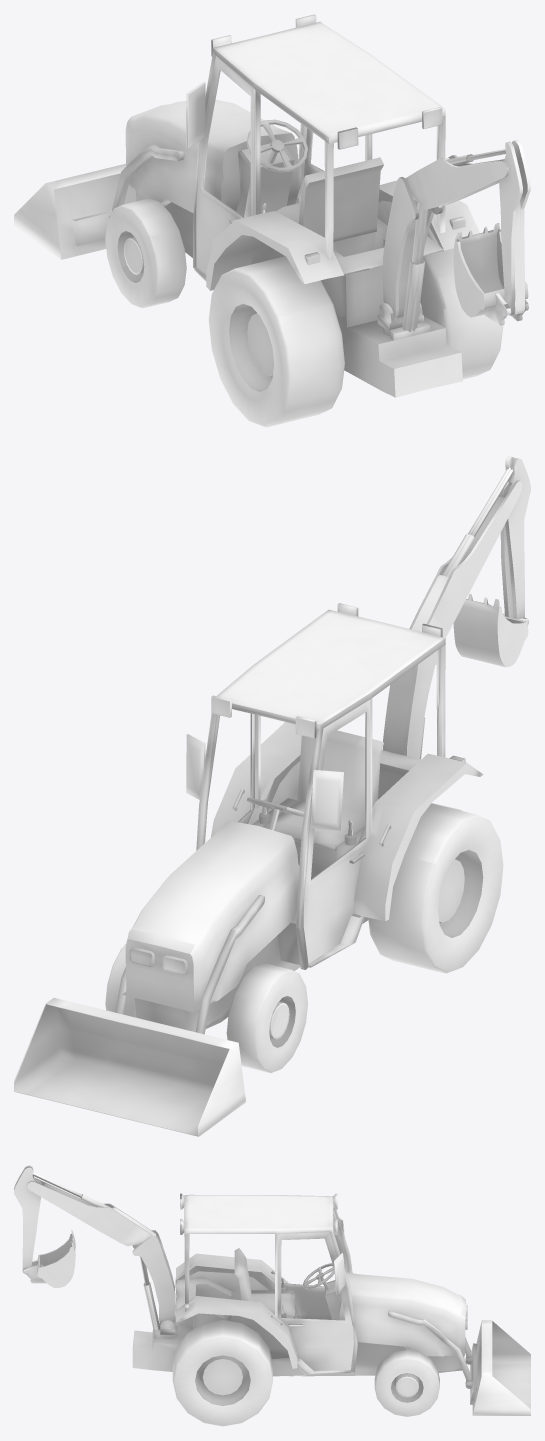
File: Tractor.glb
3 views of the same model, one above another, from view 1: azimuth 30°, elevation 25°; view 2: azimuth 150°, elevation 25°; view 3: azimuth 270°, elevation 25° (orthographic). The views are drawn at different scales.
Parts seen in each view (by area): view 1: Tractor; view 2: Tractor; view 3: Tractor.
Boxes of the visible parts, left/top/right/bottom form: Tractor: left=14, top=14, right=530, bottom=427; Tractor: left=14, top=456, right=530, bottom=1136; Tractor: left=14, top=1165, right=530, bottom=1426.
Size of the model in its own units: 1.24 by 2.03 by 4.17.
Materials: 1 (1 with a texture image).
